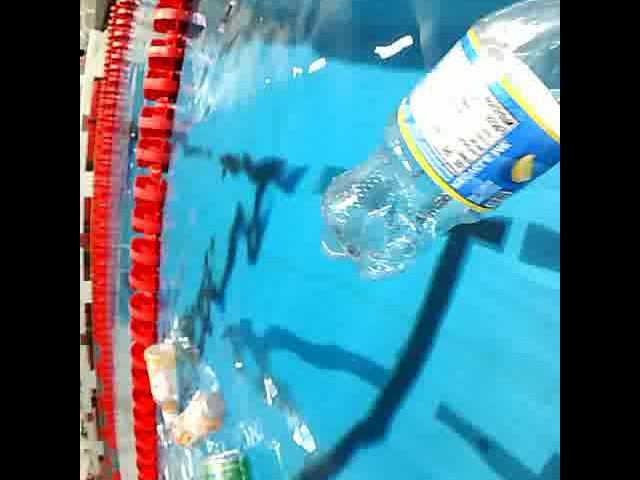Bottle: (309, 0, 560, 285), (144, 334, 182, 430), (172, 386, 224, 451)
Can: (198, 442, 262, 480)
